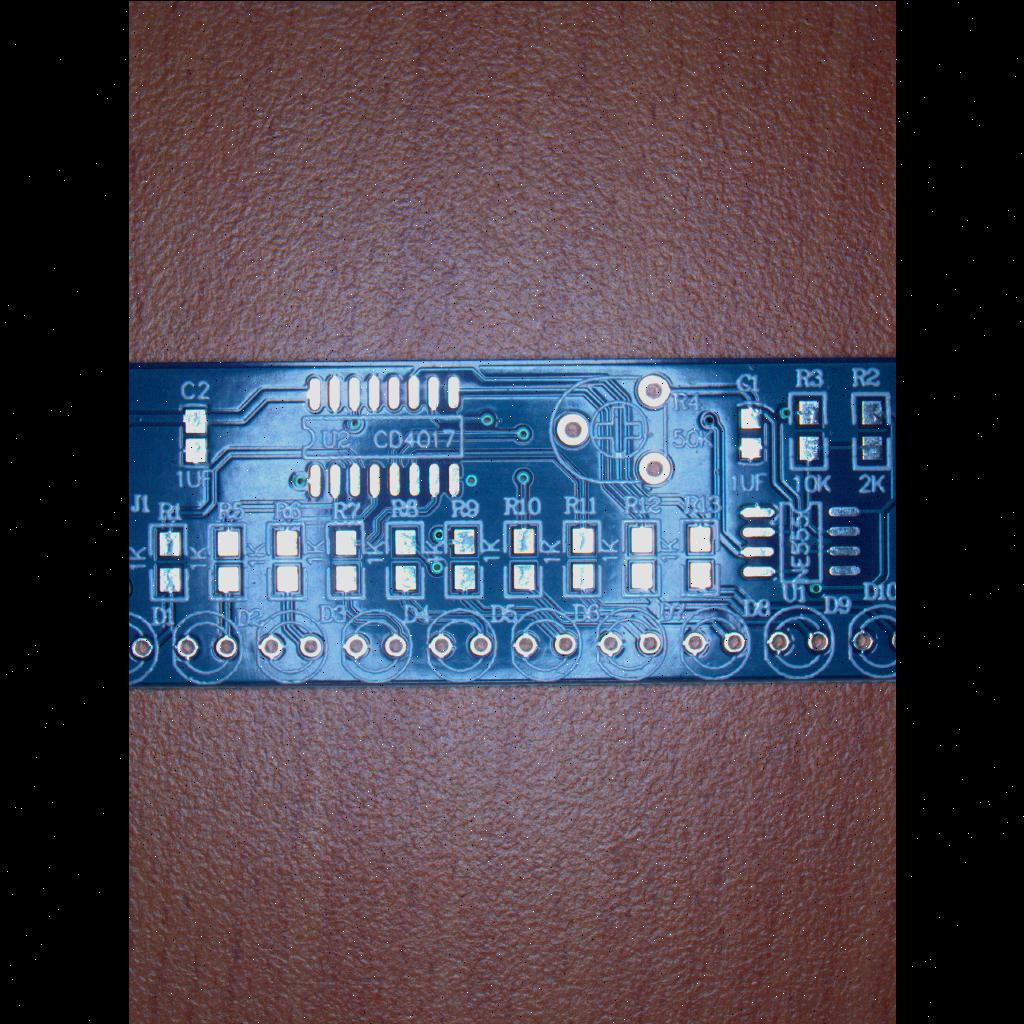NG: (294, 366, 476, 502), (732, 494, 870, 584), (785, 386, 831, 478), (321, 516, 367, 604), (848, 386, 894, 474), (500, 516, 548, 600), (382, 516, 428, 602), (618, 514, 664, 600), (440, 516, 486, 600), (558, 516, 604, 600), (146, 518, 190, 604), (678, 514, 720, 602), (206, 518, 248, 604), (263, 518, 305, 604), (172, 398, 214, 472), (736, 397, 768, 465)
